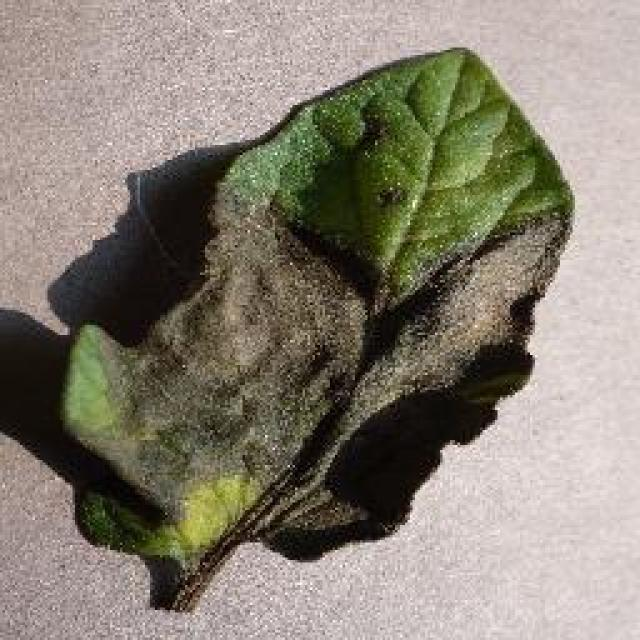Tomato Late Blight: (98, 210, 472, 492)
